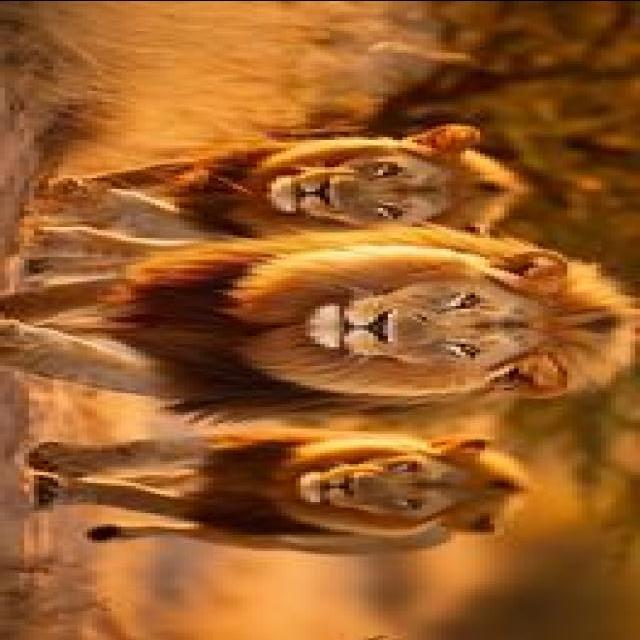lions: (0, 24, 640, 591)
